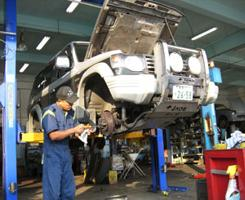person: (42, 87, 94, 200)
